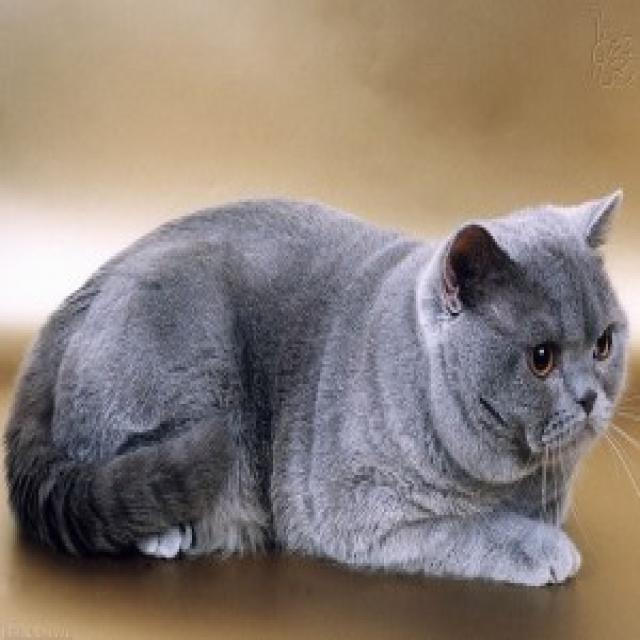British_Shorthair: (418, 188, 632, 480)
